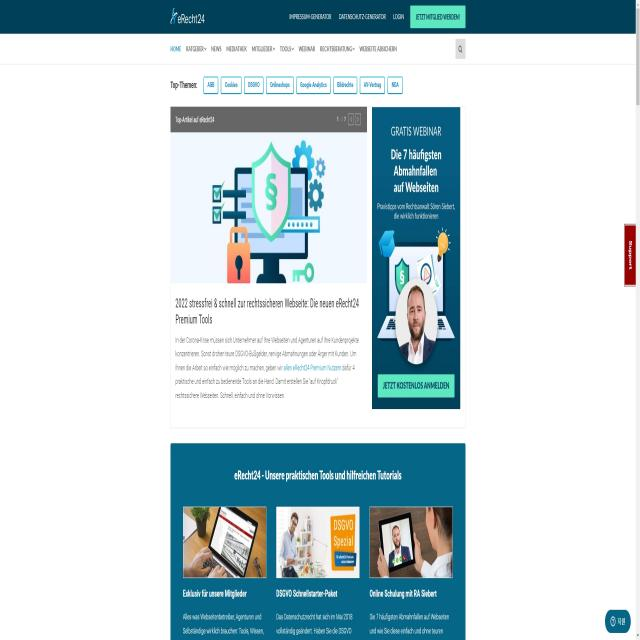control-bar: (335, 104, 365, 132)
menu-bar: (281, 2, 474, 31)
tab-bar: (202, 70, 406, 102), (170, 38, 401, 61)
